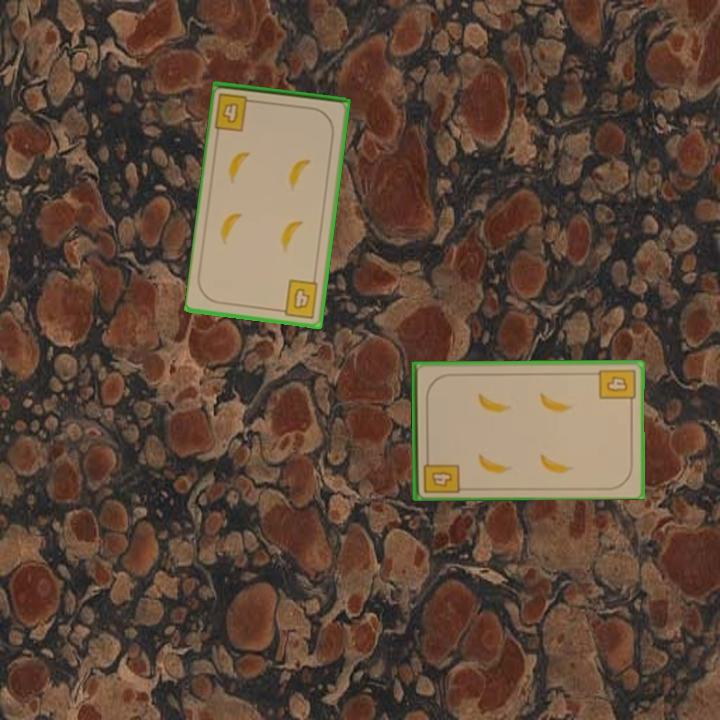4b: (212, 89, 260, 134), (275, 276, 321, 321), (419, 451, 461, 495), (596, 366, 638, 408)
